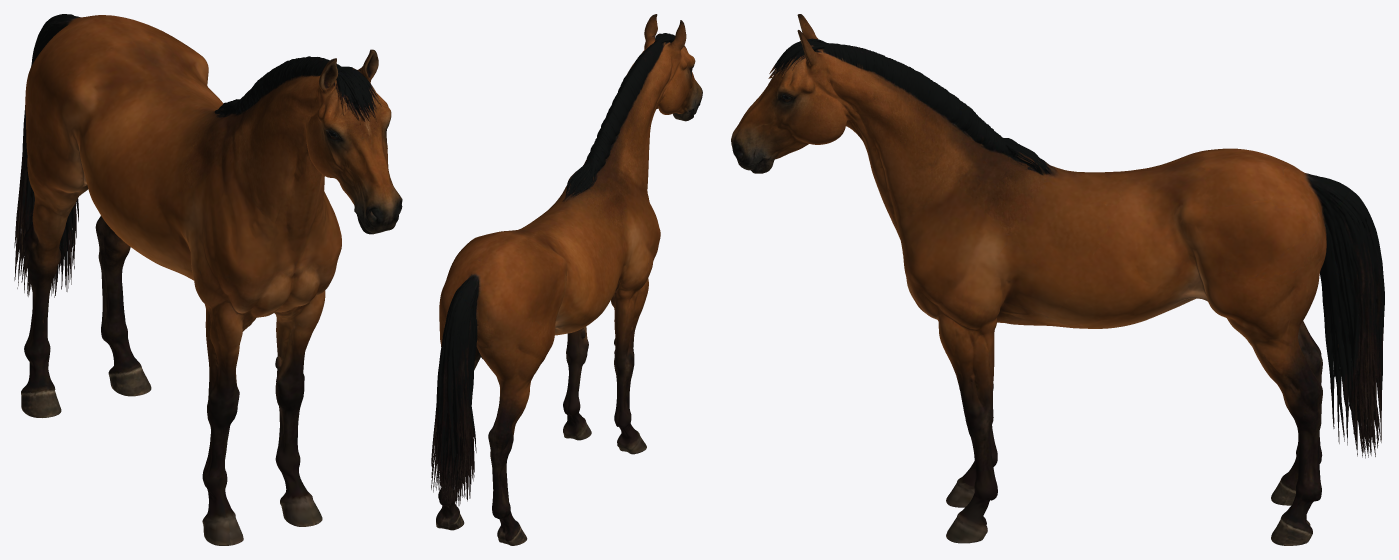
File: horse.glb
3 views of the same model, side by side, from view 1: azimuth 30°, elevation 25°; view 2: azimuth 150°, elevation 25°; view 3: azimuth 270°, elevation 25° (orthographic). The views are drawn at different scales.
Parts seen in each view (by area): view 1: horse; view 2: horse; view 3: horse.
Boxes of the visible parts, x1,y1,x2,y2 form: horse: [14, 14, 402, 545]; horse: [431, 14, 702, 545]; horse: [731, 14, 1384, 545].
Size of the model in its own units: 0.5828 by 2.01 by 2.4.
Materials: 1 (1 with a texture image).
